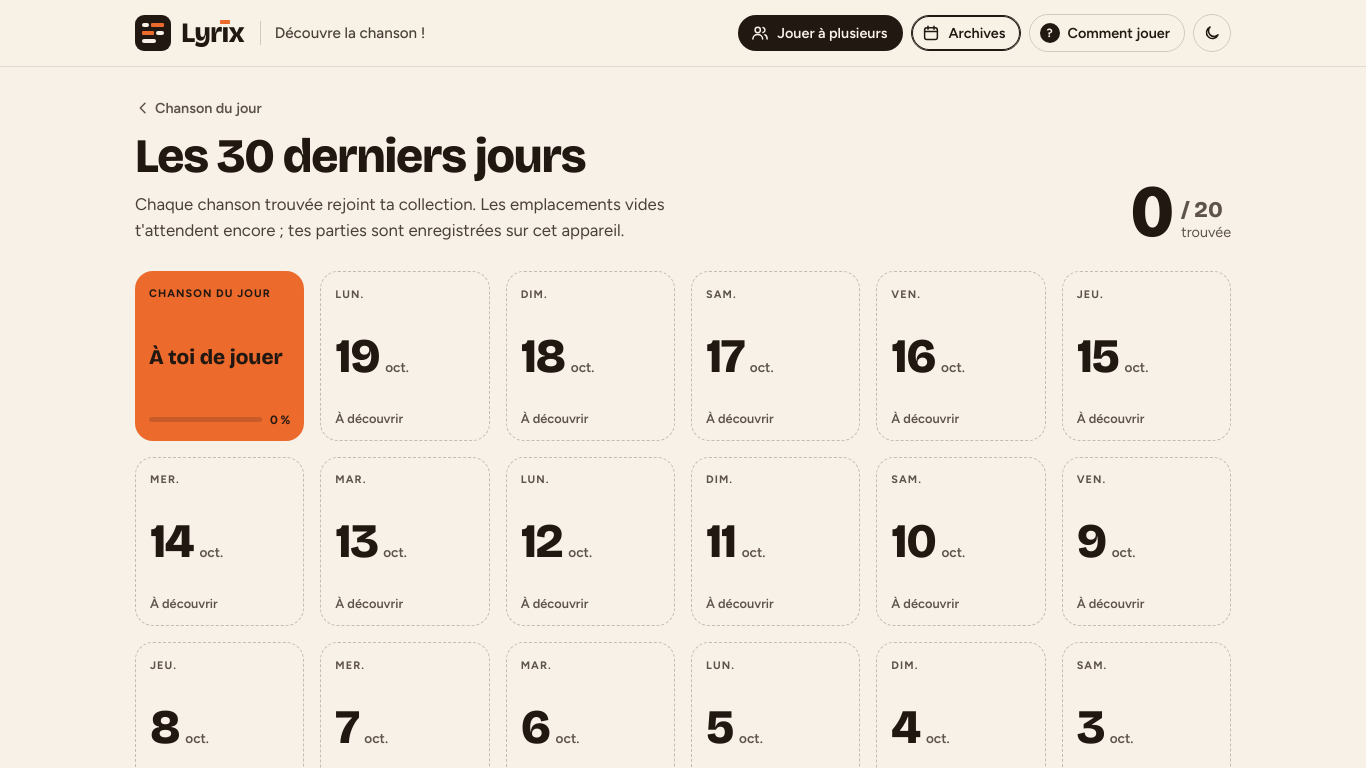
it: the archives screen › closes to today's song when the player landed on it from a link
Expected: the heading "Les 30 derniers jours" is shown, x1=135 y1=127 x2=585 y2=185
Click the button "Archives": (966, 33) x1=911 y1=15 x2=1020 y2=51
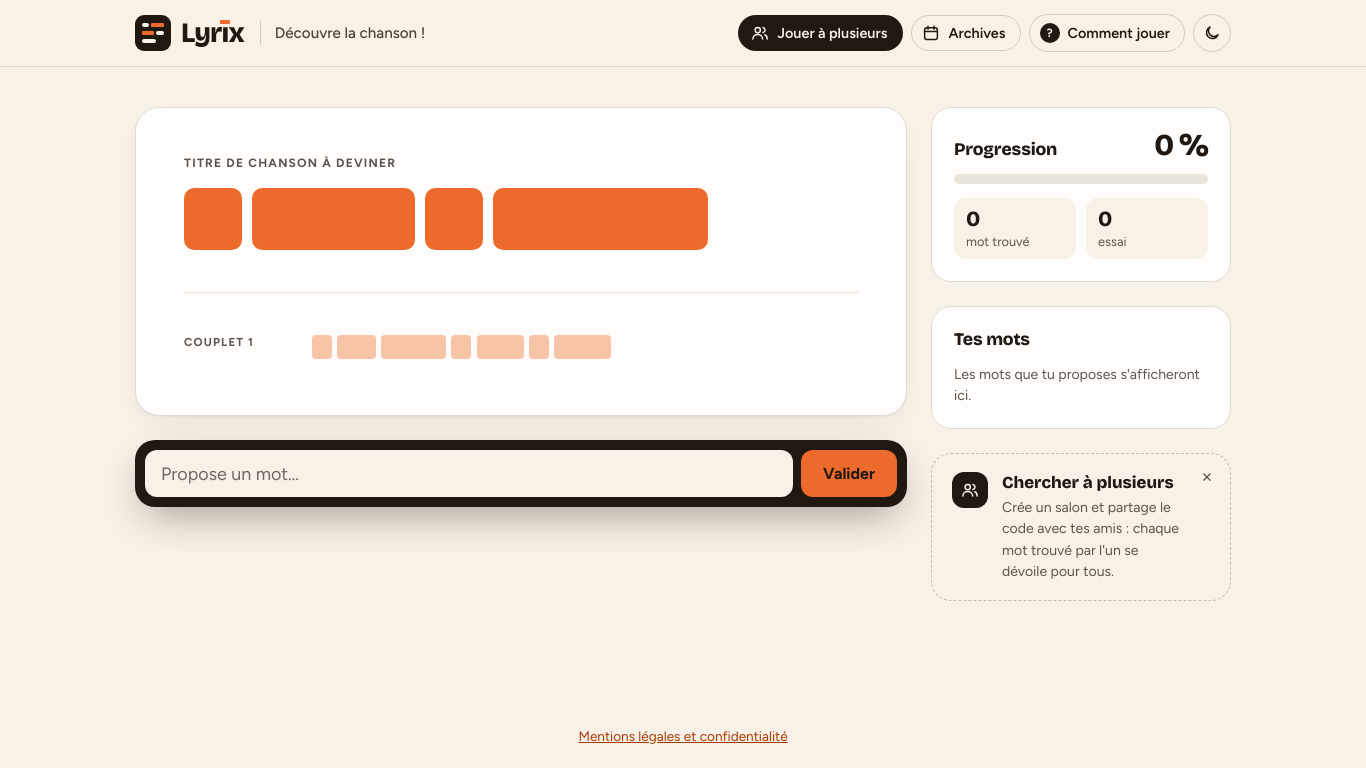
Now the field with placeholder "Propose un mot…" is shown, box x1=145 y1=450 x2=793 y2=497
